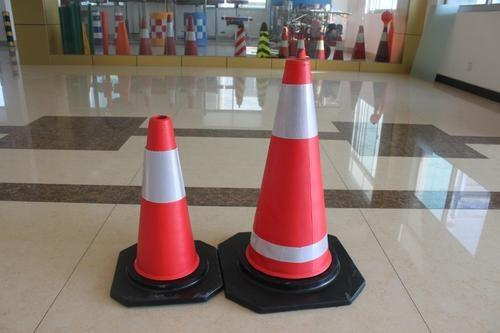cone_barrel: (240, 45, 340, 289), (123, 119, 206, 286), (371, 21, 391, 63), (134, 16, 150, 55), (350, 23, 366, 60), (182, 15, 197, 53), (255, 21, 270, 56), (164, 14, 176, 54), (311, 31, 324, 59), (277, 28, 289, 57)
